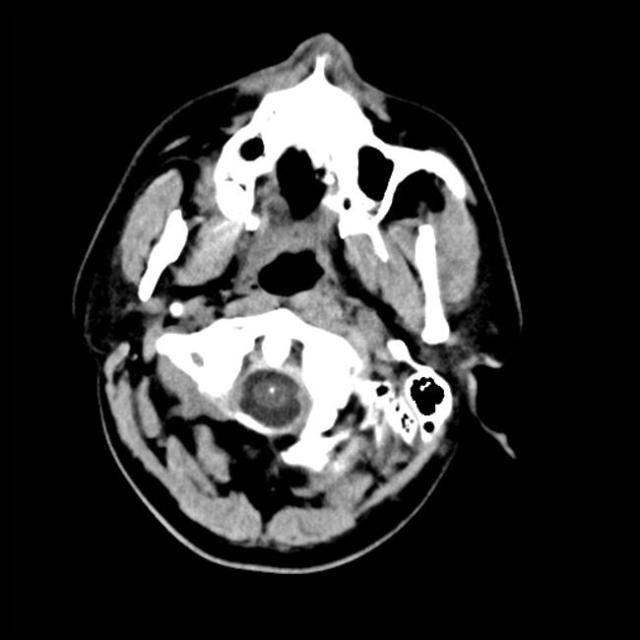lesion: (75, 33, 526, 567)
